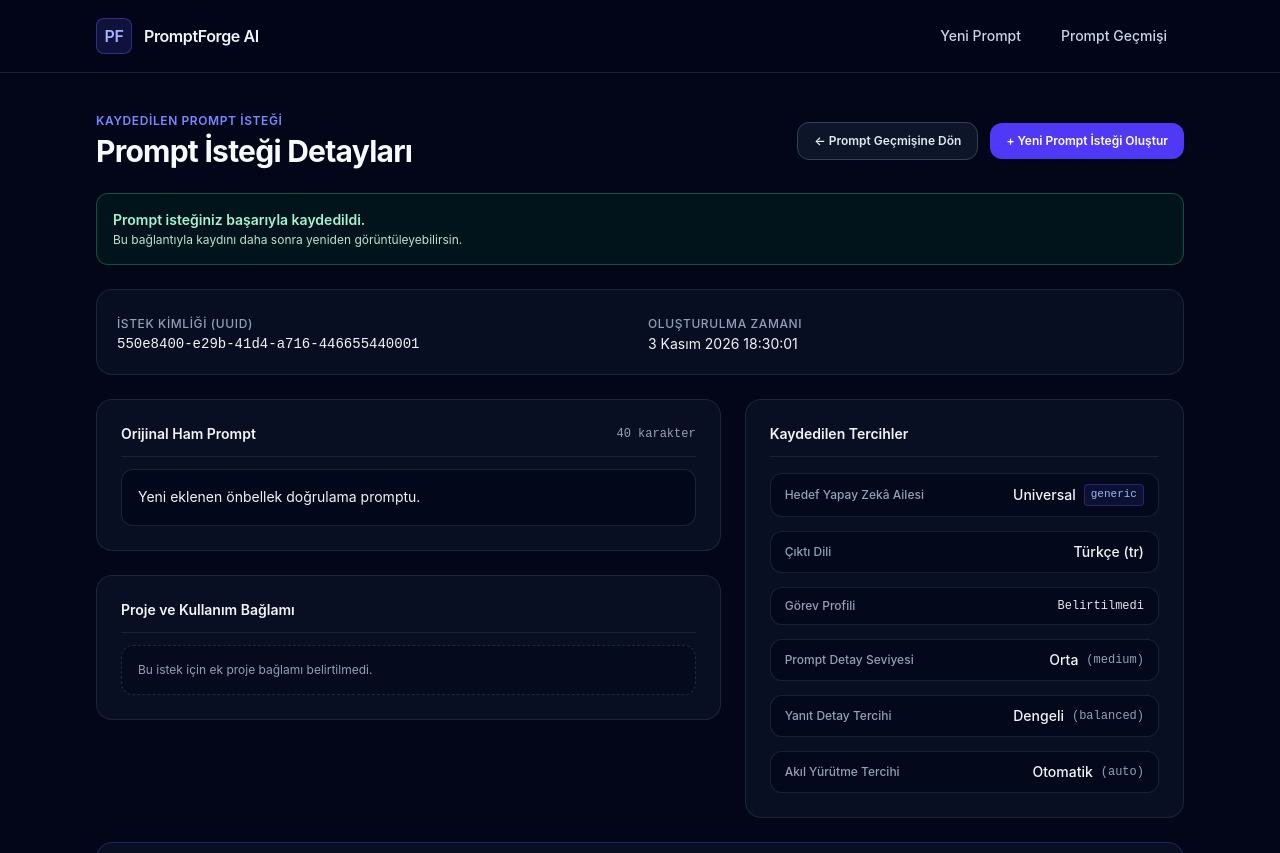
it: Prompt history, server-side pagination, and navigation (Milestone 4B-1) › invalidates cached history list when a new prompt is created so the new record appears in history
The image size is (1280, 853).
Earlier steps of the test are not shown.
expect the heading "Prompt İsteği Detayları" is shown: met, box [96,133,412,169]
Click the link "← Prompt Geçmişine Dön": (888,141) [797,122,978,160]
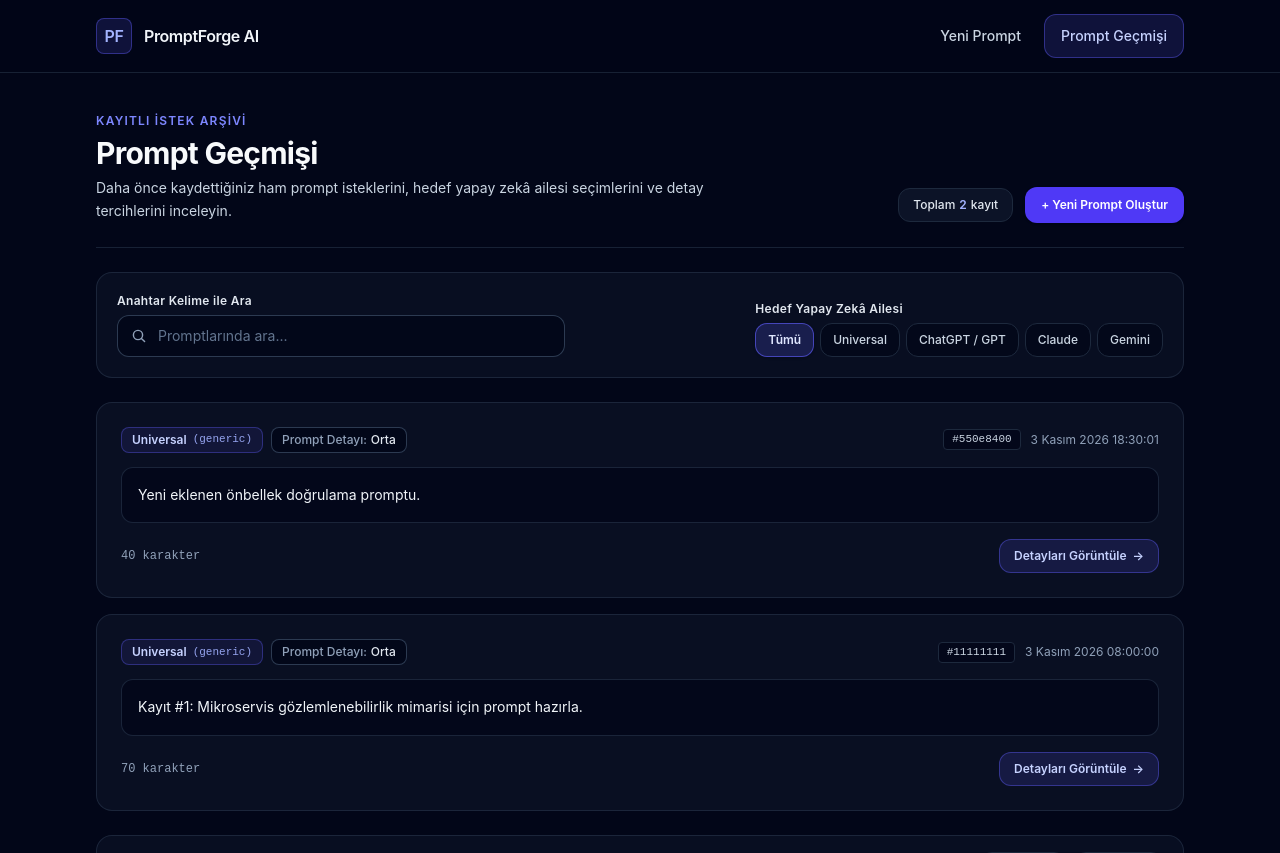
expect the text "Yeni eklenen önbellek doğrulama promptu." is shown: met, box [138,486,420,502]
expect the element named "Toplam kayıt sayısı" reads "Toplam 2 kayıt": met, box [898,188,1013,222]
